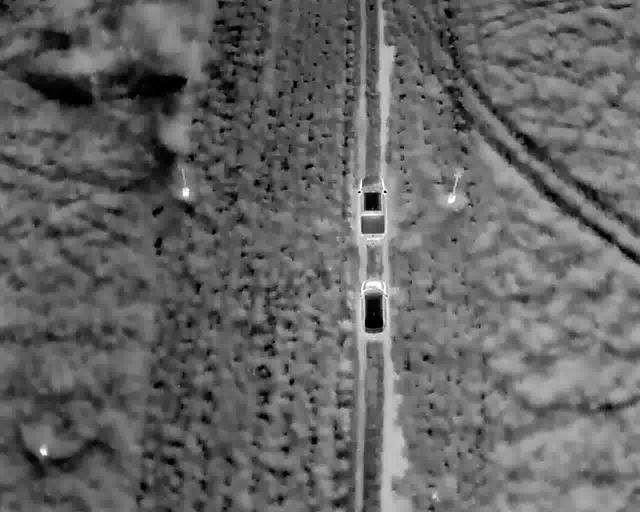car: (357, 175, 387, 239), (360, 279, 389, 337)
